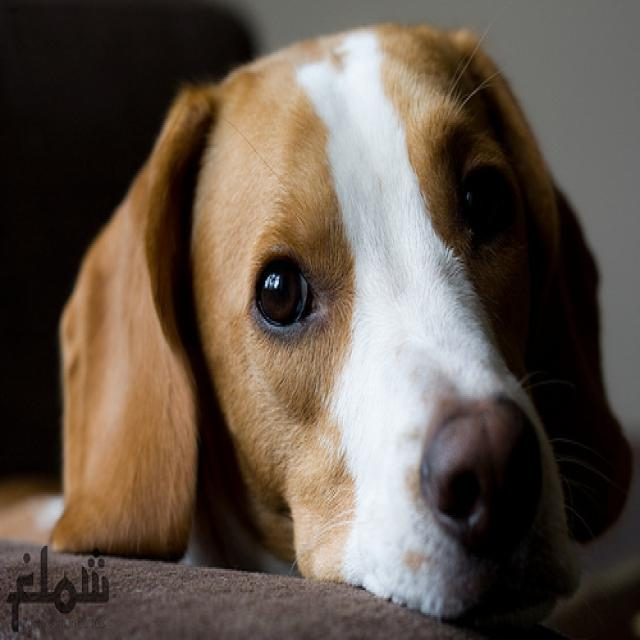dog-beagle: (1, 15, 637, 636)
